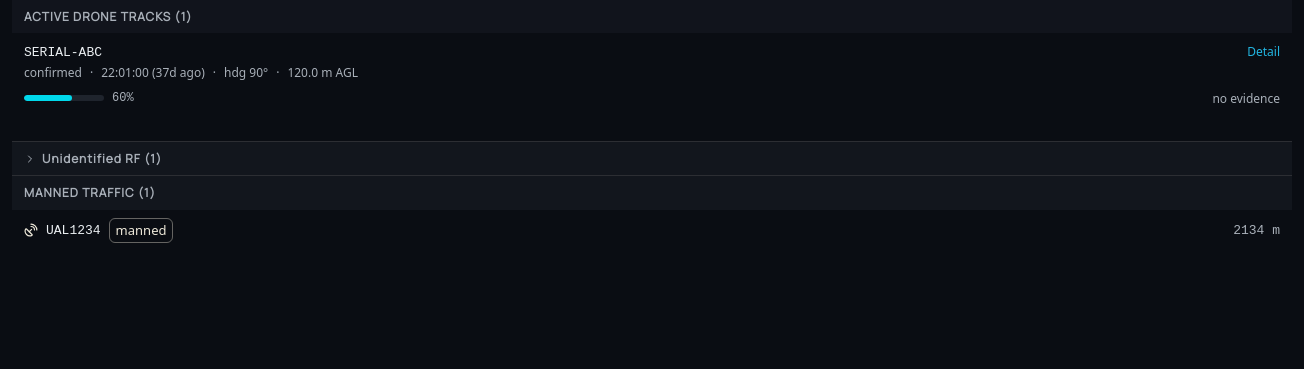
unidentified RF › names the vendor and says it is never plotted, once opened
expect the heading "Manned traffic (1)" is shown: met, box [12,176,1292,210]
Click the button "Unidentified RF (1)". click: coordinates (96, 158)
box: [24,150,1280,167]
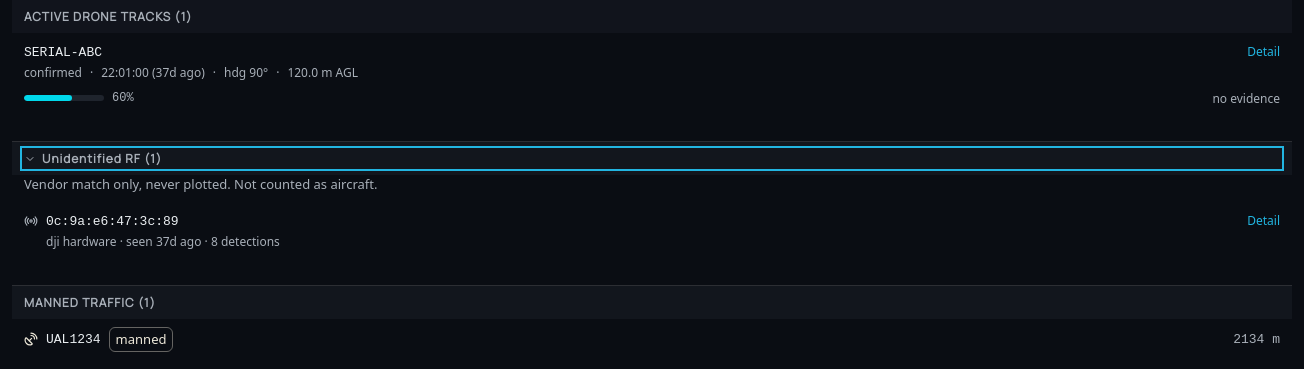
expect the text "0c:9a:e6:47:3c:89" is shown: met, box [46,214,179,229]
expect the text "dji hardware · seen 37d ago · 8 detections" is shown: met, box [46,233,280,250]
expect the text "Vendor match only, never plotted. Not counted as aircraft." is shown: met, box [24,175,378,193]
